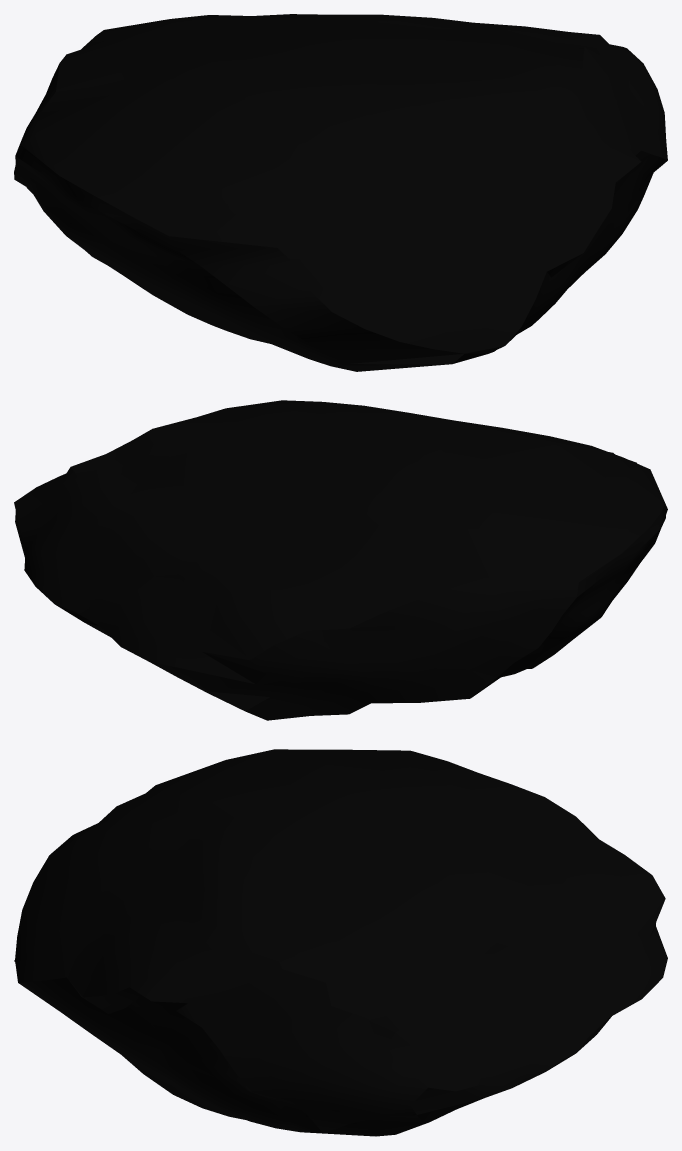
File: rock_slab_02.glb
The picture shows the model from 3 angles, top to bottom: view 1: azimuth 30°, elevation 25°; view 2: azimuth 150°, elevation 25°; view 3: azimuth 270°, elevation 25°; orthographic projection. The views are drawn at different scales.
Parts seen in each view (by area): view 1: rock_slab_02; view 2: rock_slab_02; view 3: rock_slab_02.
Part boxes in pixels (x1,y1,x2,y2): rock_slab_02: [14, 14, 667, 371]; rock_slab_02: [14, 400, 667, 720]; rock_slab_02: [14, 749, 667, 1136].
Size of the model in its own units: 2.05 by 0.7444 by 1.97.
Materials: 1 (1 with a texture image).
